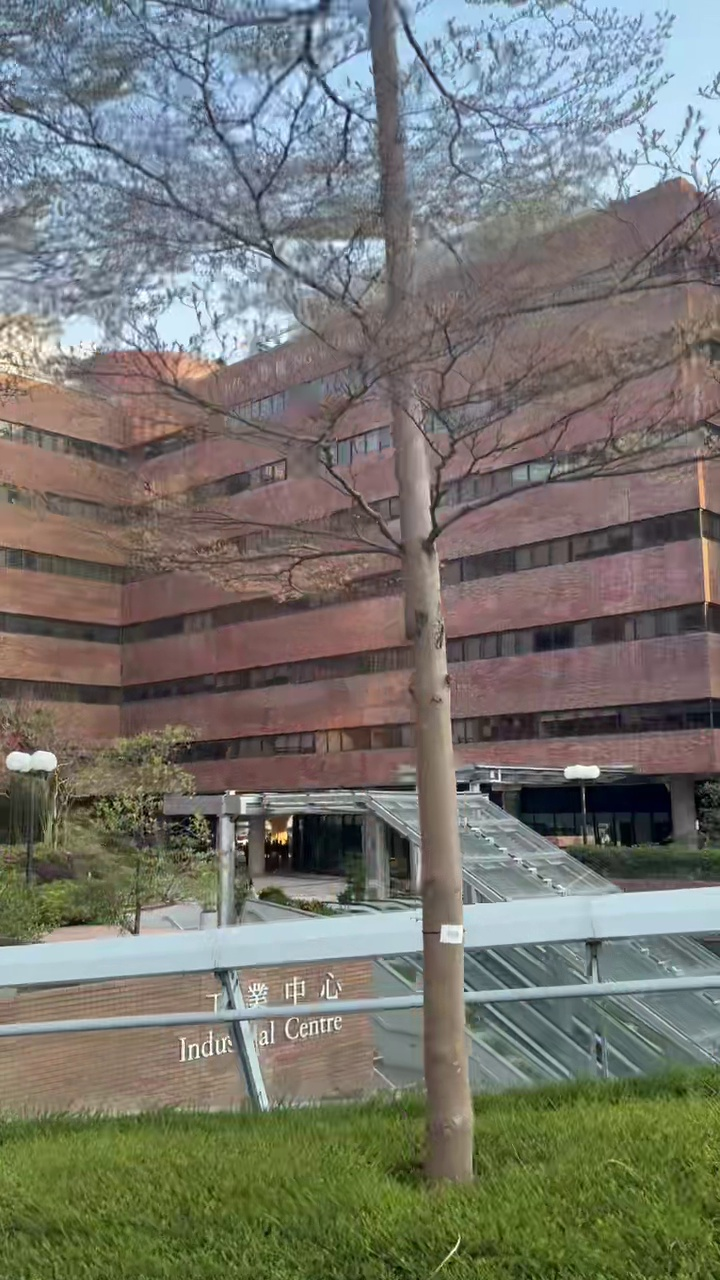Terminalia mantaly: (0, 0, 716, 1179)
